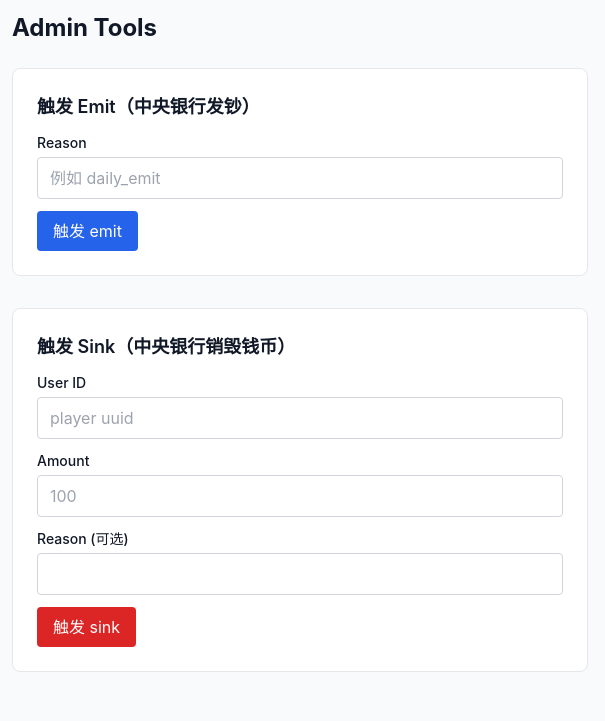
it: AdminClient › shows server error code on 4xx
The image size is (605, 721).
Type "daily_emit" into the field labelled "Reason".
click(300, 178); type("daily_emit")  # box [37, 157, 563, 199]
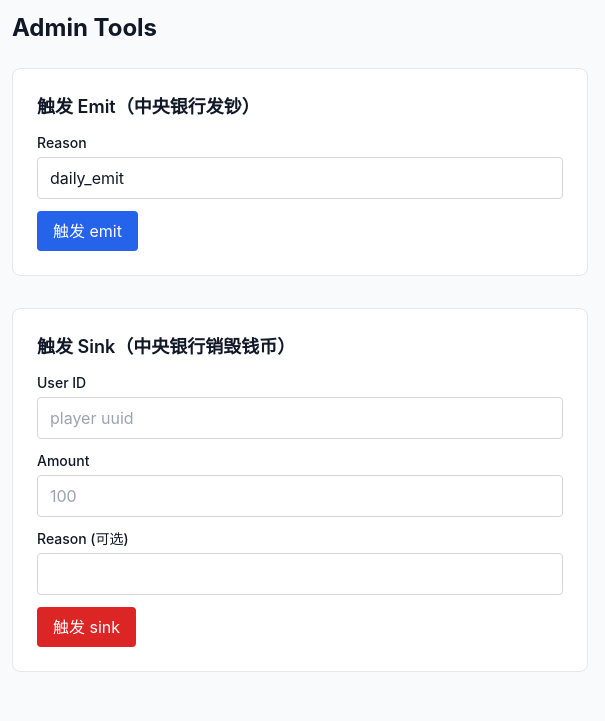
Click the button "触发 emit".
click(88, 231)  # box [37, 211, 138, 251]
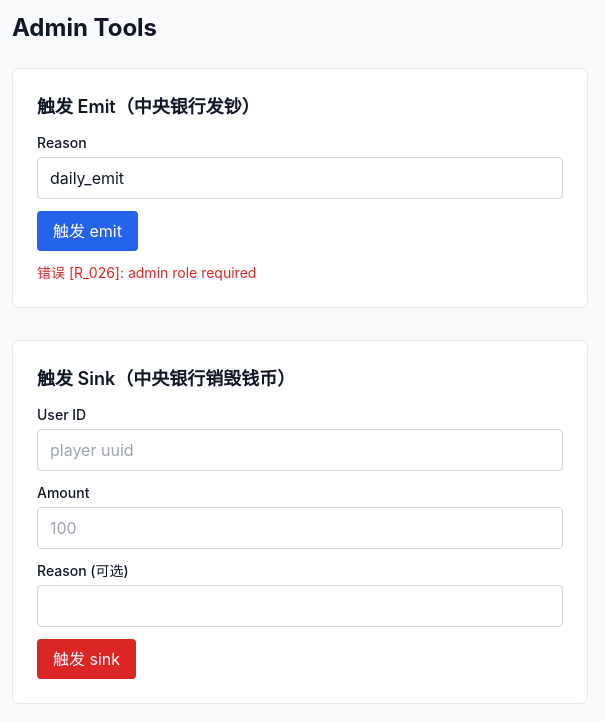
Check: the text "错误 [R_026]: admin role required" is shown, box [37, 264, 256, 281]
